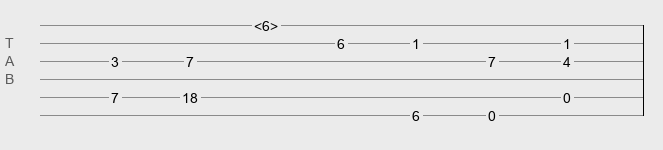0: (488, 108, 496, 118), (563, 90, 571, 100)
1: (412, 36, 420, 46), (563, 36, 571, 46)
18: (182, 90, 198, 100)
3: (111, 54, 119, 64)
4: (563, 54, 571, 64)
6: (337, 36, 345, 46), (412, 108, 420, 118)
7: (111, 90, 119, 100), (186, 54, 194, 64), (488, 54, 496, 64)
harmonic: (254, 18, 278, 28)
